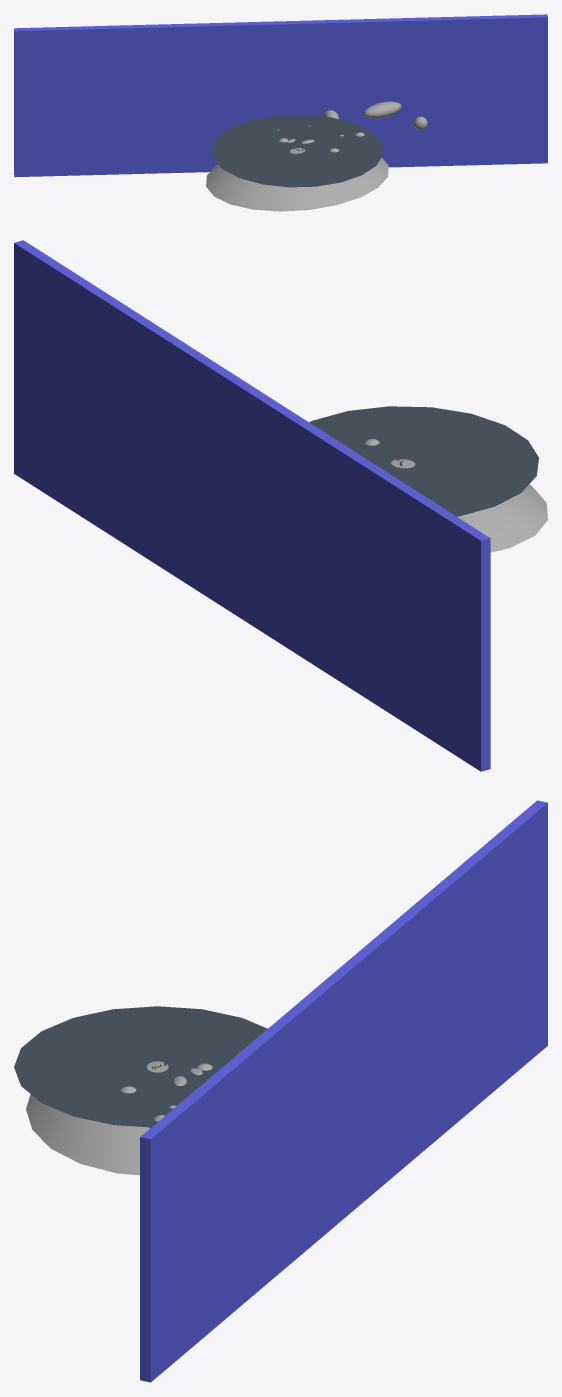
Rendered from snowman.fbx.
3 renders of one model, top to bottom at view 1: azimuth 30°, elevation 25°; view 2: azimuth 150°, elevation 25°; view 3: azimuth 270°, elevation 25°, orthographic. The views are drawn at different scales.
Parts seen in each view (by area): view 1: bg, ocean2, ground, pSphere16; view 2: bg, ocean2, ground; view 3: bg, ocean2, ground.
Part boxes in pixels (x1=…): bg: x1=14, y1=14, x2=547, y2=177; ocean2: x1=211, y1=114, x2=382, y2=187; ground: x1=206, y1=148, x2=388, y2=211; pSphere16: x1=364, y1=101, x2=401, y2=118; bg: x1=14, y1=240, x2=490, y2=771; ocean2: x1=309, y1=406, x2=538, y2=516; ground: x1=391, y1=459, x2=547, y2=552; bg: x1=140, y1=800, x2=547, y2=1382; ocean2: x1=14, y1=1006, x2=267, y2=1127; ground: x1=26, y1=1061, x2=168, y2=1175.
Size of the model in its own units: 1396 by 467 by 929.
